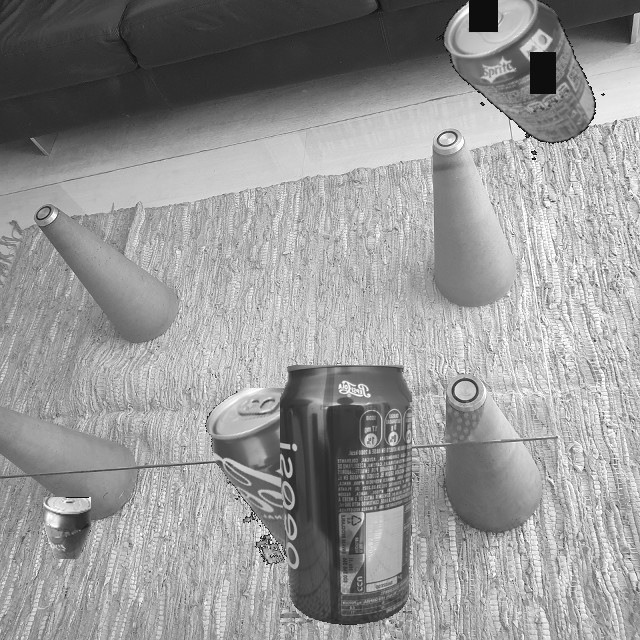coca cola: (193, 388, 364, 565)
pepsi: (280, 365, 412, 626)
schweppes: (43, 497, 91, 559)
sprite: (433, 0, 640, 182)
